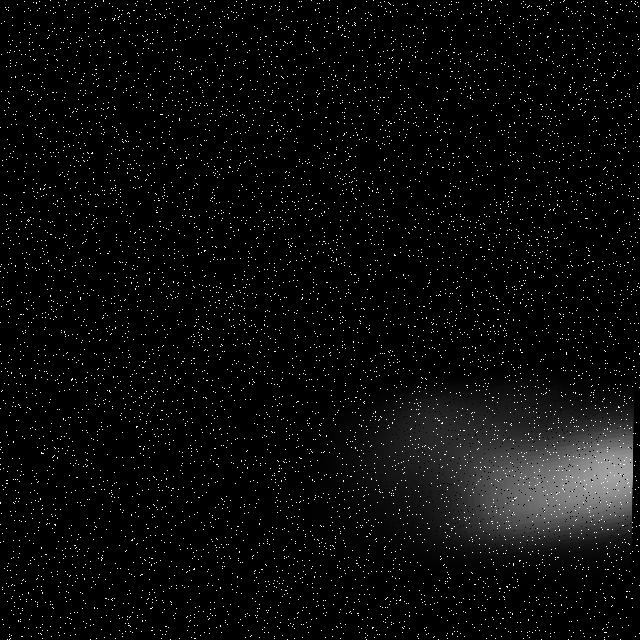person: (273, 327, 637, 618)
